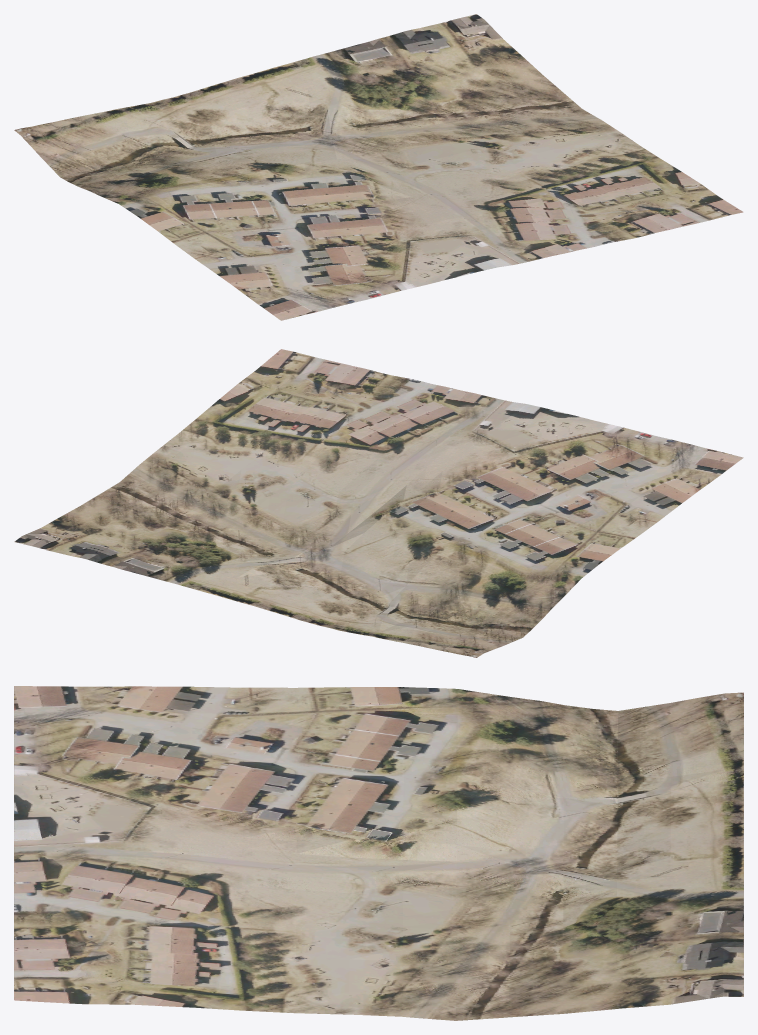
Rendered from CM_Terrain_24490049_6818360.fbx.
3 renders of one model, top to bottom at view 1: azimuth 30°, elevation 25°; view 2: azimuth 150°, elevation 25°; view 3: azimuth 270°, elevation 25°, orthographic. The views are drawn at different scales.
Parts seen in each view (by area): view 1: CM_Terrain_24490049_6818360_LOD0; view 2: CM_Terrain_24490049_6818360_LOD0; view 3: CM_Terrain_24490049_6818360_LOD0.
Part boxes in pixels (x1,y1,x2,y2): CM_Terrain_24490049_6818360_LOD0: (14,14,743,320); CM_Terrain_24490049_6818360_LOD0: (14,349,743,657); CM_Terrain_24490049_6818360_LOD0: (14,686,743,1020).
Size of what is drawn, in the model's own units: 205 by 9.19 by 205.
